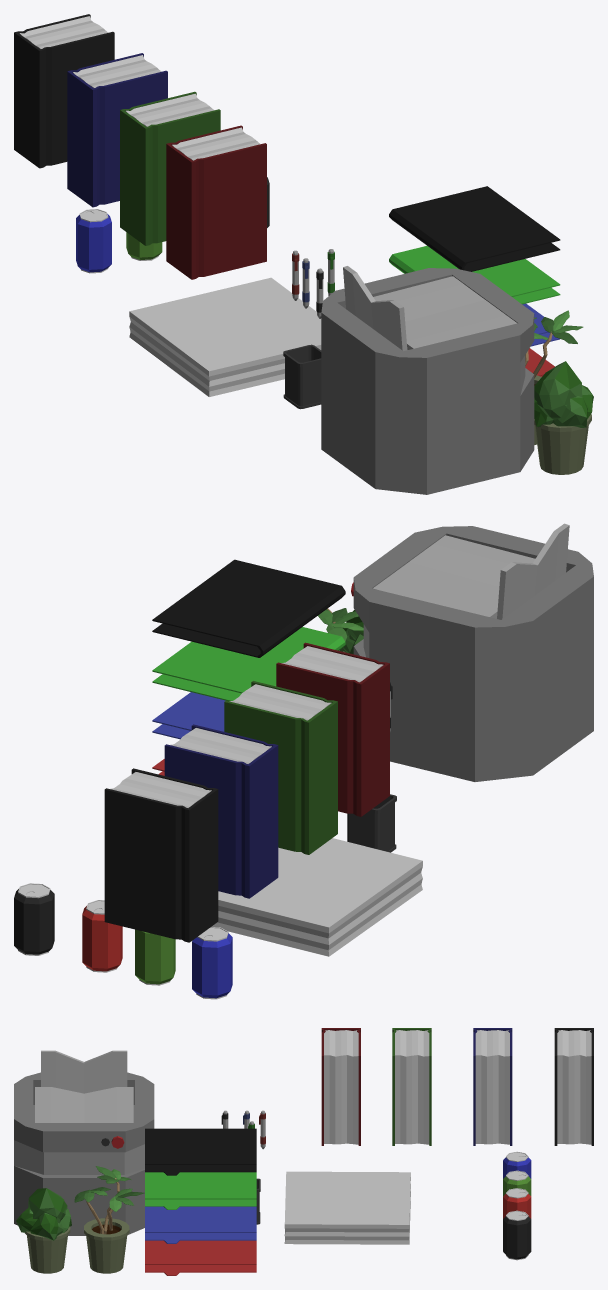
Rendered from Office Props.fbx.
3 renders of one model, top to bottom at view 1: azimuth 30°, elevation 25°; view 2: azimuth 150°, elevation 25°; view 3: azimuth 270°, elevation 25°, orthographic. The views are drawn at different scales.
Visible parts, largest first — view 1: Cube.004, Cube.003, Plane.044, Plane.049, Plane.045, Plane.048, Plane.017, Plane.023, Plane.016, Plane.022, Circle.001, Plane.021 (+4 smaller); view 2: Cube.004, Plane.049, Cube.003, Plane.045, Plane.017, Plane.048, Plane.044, Plane.023, Plane.016, Plane.022, Cylinder.029, Cylinder.021 (+4 smaller); view 3: Cube.004, Cube.003, Plane.048, Plane.049, Plane.045, Plane.044, Plane.017, Plane.016, Plane.015, Plane.043, Plane.023, Plane.022 (+8 smaller).
Part boxes in pixels (x1=…): Cube.004: x1=321, y1=268, x2=534, y2=494; Cube.003: x1=129, y1=277, x2=321, y2=396; Plane.044: x1=166, y1=125, x2=266, y2=279; Plane.049: x1=14, y1=14, x2=114, y2=168; Plane.045: x1=67, y1=53, x2=167, y2=207; Plane.048: x1=389, y1=186, x2=560, y2=271; Plane.017: x1=120, y1=91, x2=220, y2=245; Plane.023: x1=373, y1=276, x2=517, y2=349; Plane.016: x1=389, y1=246, x2=560, y2=304; Plane.022: x1=343, y1=266, x2=407, y2=351; Circle.001: x1=534, y1=414, x2=591, y2=474; Plane.021: x1=283, y1=344, x2=321, y2=409; Cube.004: x1=353, y1=526, x2=593, y2=781; Plane.049: x1=104, y1=768, x2=218, y2=942; Cube.003: x1=211, y1=838, x2=422, y2=956; Plane.045: x1=164, y1=724, x2=278, y2=898; Plane.017: x1=224, y1=681, x2=337, y2=854; Plane.048: x1=152, y1=559, x2=345, y2=657; Plane.044: x1=276, y1=642, x2=389, y2=816; Plane.023: x1=373, y1=535, x2=535, y2=618; Plane.016: x1=152, y1=627, x2=345, y2=701; Plane.022: x1=497, y1=523, x2=569, y2=619; Cylinder.029: x1=14, y1=883, x2=54, y2=955; Cylinder.021: x1=192, y1=927, x2=232, y2=999; Cube.004: x1=14, y1=1072, x2=154, y2=1235; Cube.003: x1=284, y1=1171, x2=410, y2=1244; Plane.048: x1=145, y1=1128, x2=256, y2=1175; Plane.049: x1=554, y1=1028, x2=593, y2=1145; Plane.045: x1=473, y1=1028, x2=512, y2=1145; Plane.044: x1=321, y1=1028, x2=360, y2=1145; Plane.017: x1=392, y1=1028, x2=431, y2=1145; Plane.016: x1=145, y1=1172, x2=256, y2=1209; Plane.015: x1=145, y1=1206, x2=256, y2=1243; Plane.043: x1=145, y1=1240, x2=256, y2=1275; Plane.023: x1=35, y1=1087, x2=133, y2=1122; Plane.022: x1=41, y1=1050, x2=127, y2=1093.
Size of the model in its own units: 200 by 156 by 489.
